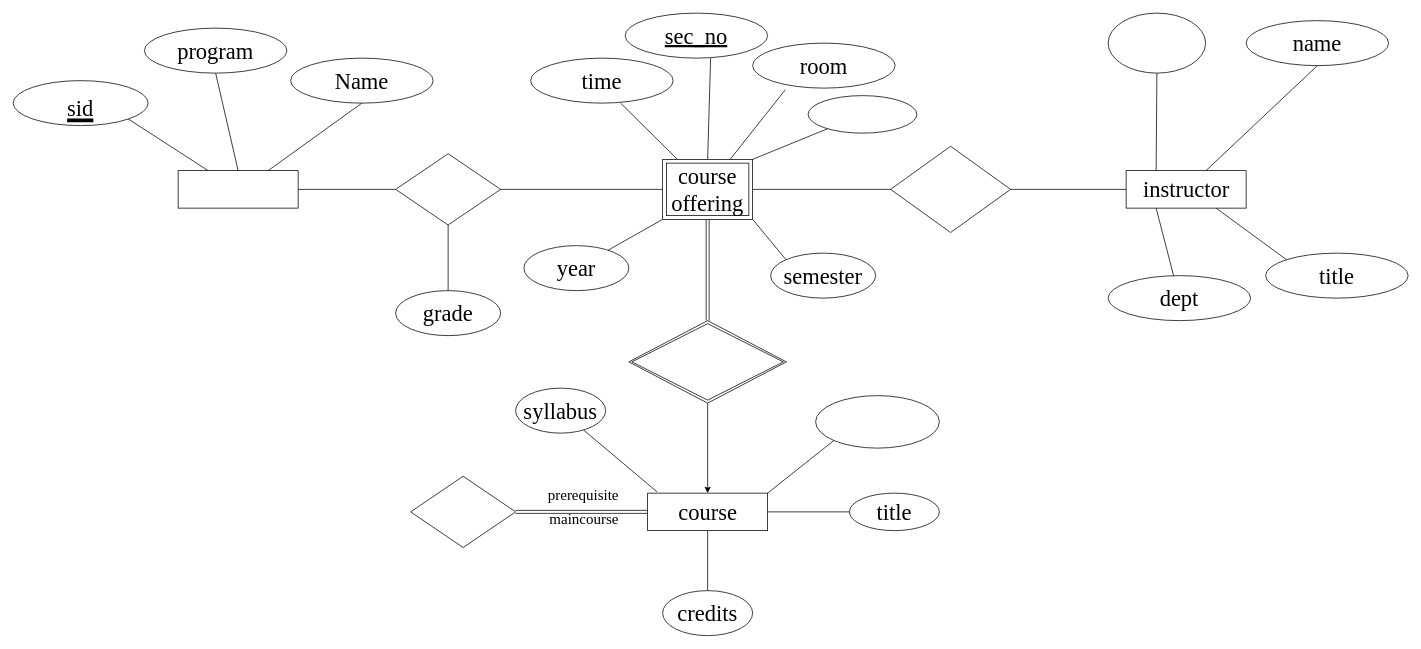
The diagram is 1421 pixels wide and 649 high, and some of its shapes have lost their labels. Here are the shapes that lost their labels. From the top down, the centre of each, then its label:
At point (1156, 42): "insid".
At point (862, 114): "course_no".
At point (237, 189): "Student".
At point (448, 189): "enrols".
At point (950, 189): "teachers".
At point (707, 361): "is offered".
At point (877, 421): "courseno".
At point (463, 512): "requires".
